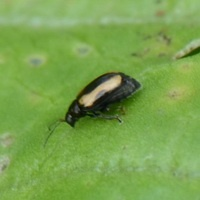insect: (58, 72, 140, 126)
